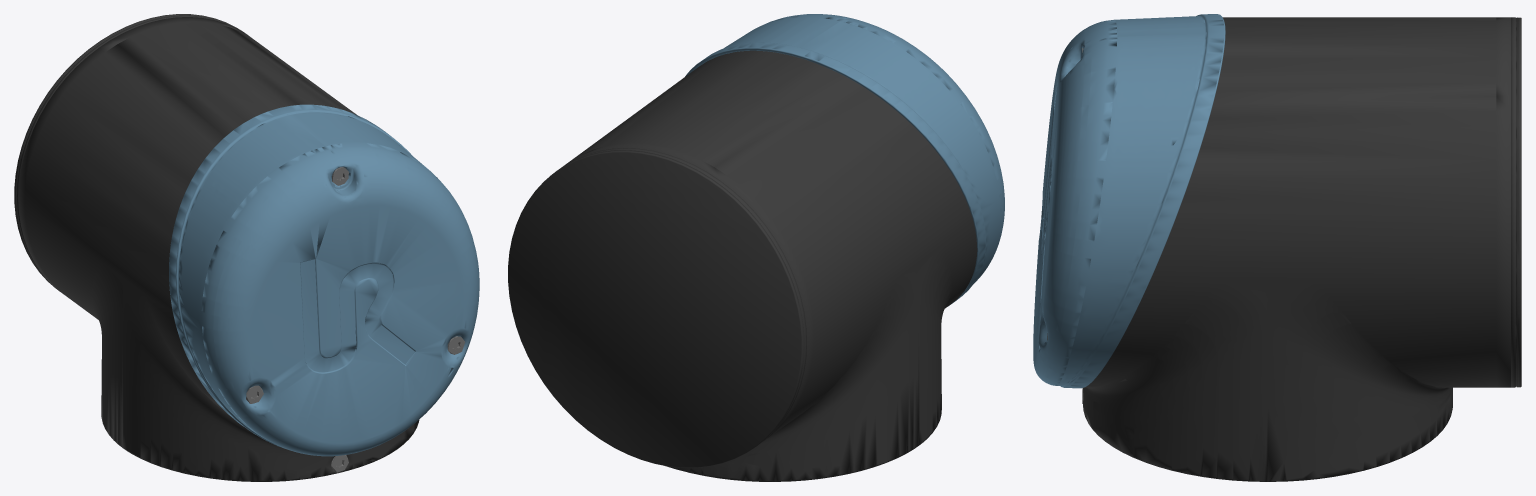
The model's file is wrist2.dae.
3 renders of one model, left to right at view 1: azimuth 30°, elevation 25°; view 2: azimuth 150°, elevation 25°; view 3: azimuth 270°, elevation 25°, orthographic. The views are drawn at different scales.
Visible parts, largest first — view 1: node-shape1-name, node-shape0-name, node-shape2-name; view 2: node-shape0-name, node-shape1-name; view 3: node-shape0-name, node-shape1-name.
Boxes of the visible parts, box(x1,y1,x2,y2) form: node-shape1-name: box(169, 104, 479, 456); node-shape0-name: box(14, 14, 419, 481); node-shape2-name: box(246, 167, 464, 472); node-shape0-name: box(508, 50, 977, 481); node-shape1-name: box(685, 14, 1004, 306); node-shape0-name: box(1083, 17, 1521, 481); node-shape1-name: box(1033, 14, 1225, 388).
Size of the model in its own units: 0.091 by 0.1188 by 0.0999.
